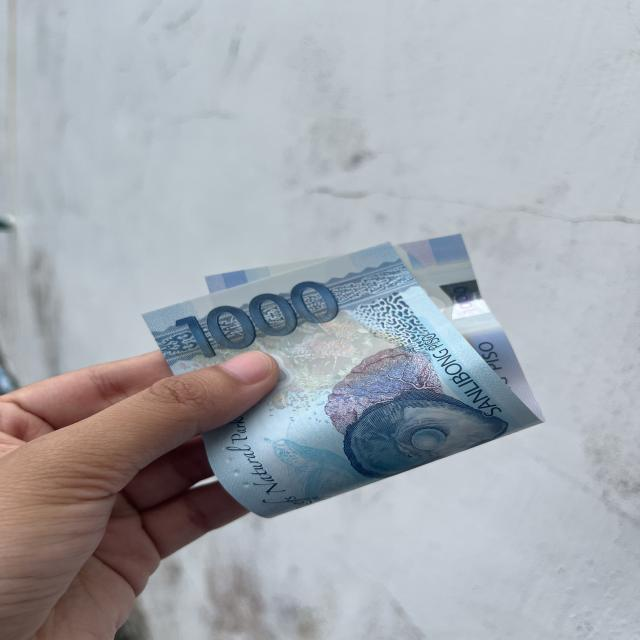value: (183, 269, 351, 366)
